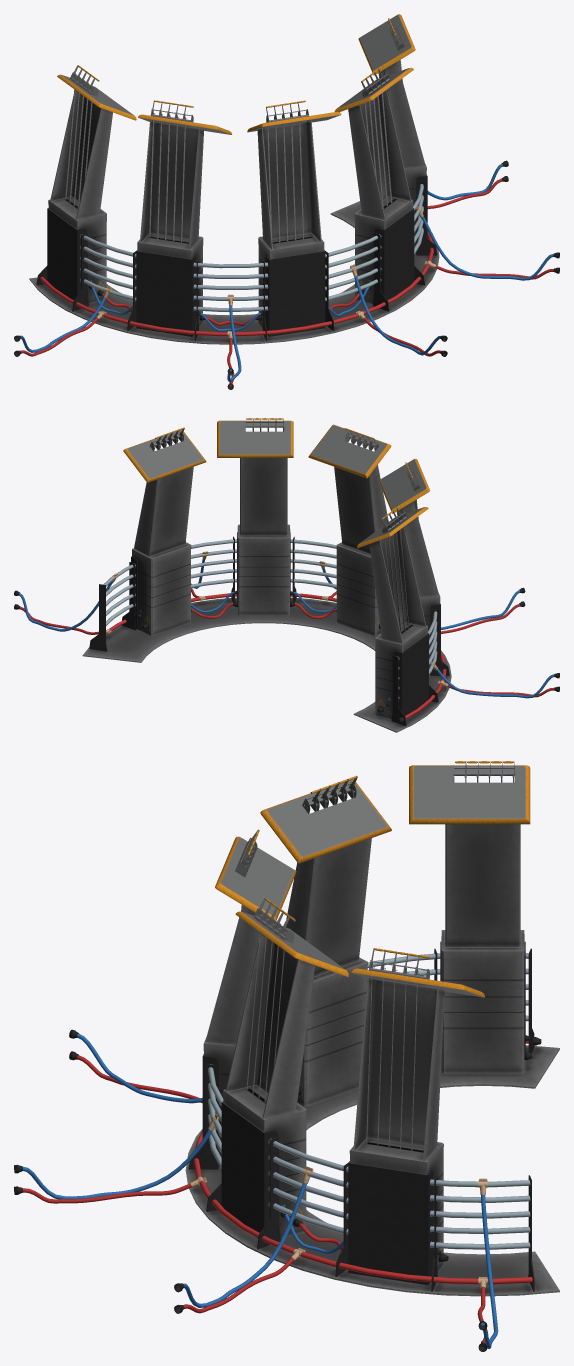
Rendered from SensorKey.FBX.
3 views of the same model, one above another, from view 1: azimuth 30°, elevation 25°; view 2: azimuth 150°, elevation 25°; view 3: azimuth 270°, elevation 25° (orthographic). The views are drawn at different scales.
Visible parts, largest first — view 1: Torus007, ControlPanel003, ControlPanel002, ControlPanel004, ControlPanel001, ControlPanel005; view 2: Torus007, ControlPanel004, ControlPanel005, ControlPanel001, ControlPanel003, ControlPanel002; view 3: ControlPanel005, ControlPanel001, Torus007, ControlPanel004, ControlPanel002, ControlPanel003.
Boxes of the visible parts, bbox=[...] form: Torus007: bbox=[29, 181, 439, 344]; ControlPanel003: bbox=[247, 109, 447, 356]; ControlPanel002: bbox=[136, 109, 260, 389]; ControlPanel004: bbox=[334, 67, 559, 303]; ControlPanel001: bbox=[14, 72, 136, 356]; ControlPanel005: bbox=[358, 14, 508, 253]; Torus007: bbox=[82, 536, 451, 732]; ControlPanel004: bbox=[191, 420, 294, 618]; ControlPanel005: bbox=[14, 430, 206, 636]; ControlPanel001: bbox=[357, 507, 559, 719]; ControlPanel003: bbox=[293, 424, 391, 636]; ControlPanel002: bbox=[378, 458, 525, 674]; ControlPanel005: bbox=[348, 960, 498, 1351]; ControlPanel001: bbox=[409, 765, 532, 1073]; Torus007: bbox=[185, 948, 559, 1296]; ControlPanel004: bbox=[174, 908, 348, 1313]; ControlPanel002: bbox=[69, 779, 391, 1106]; ControlPanel003: bbox=[14, 836, 296, 1203].
Size of the model in its own units: 315 by 120 by 190.
3 materials, 1 textured.
